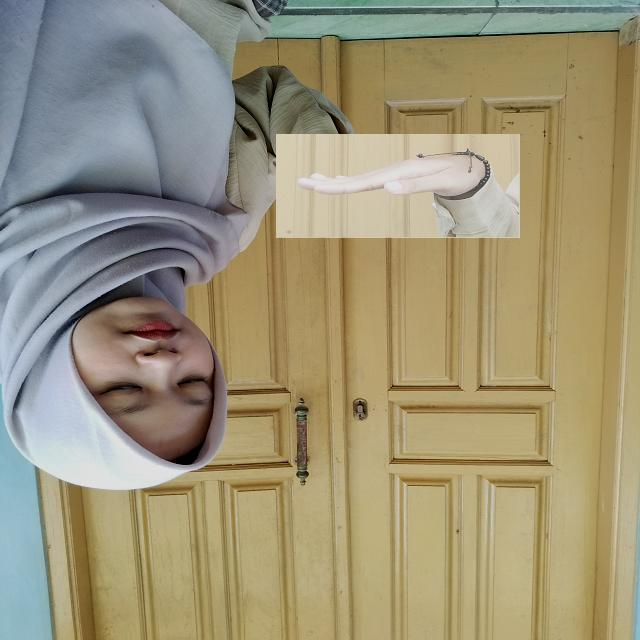adik: (276, 134, 520, 238)
